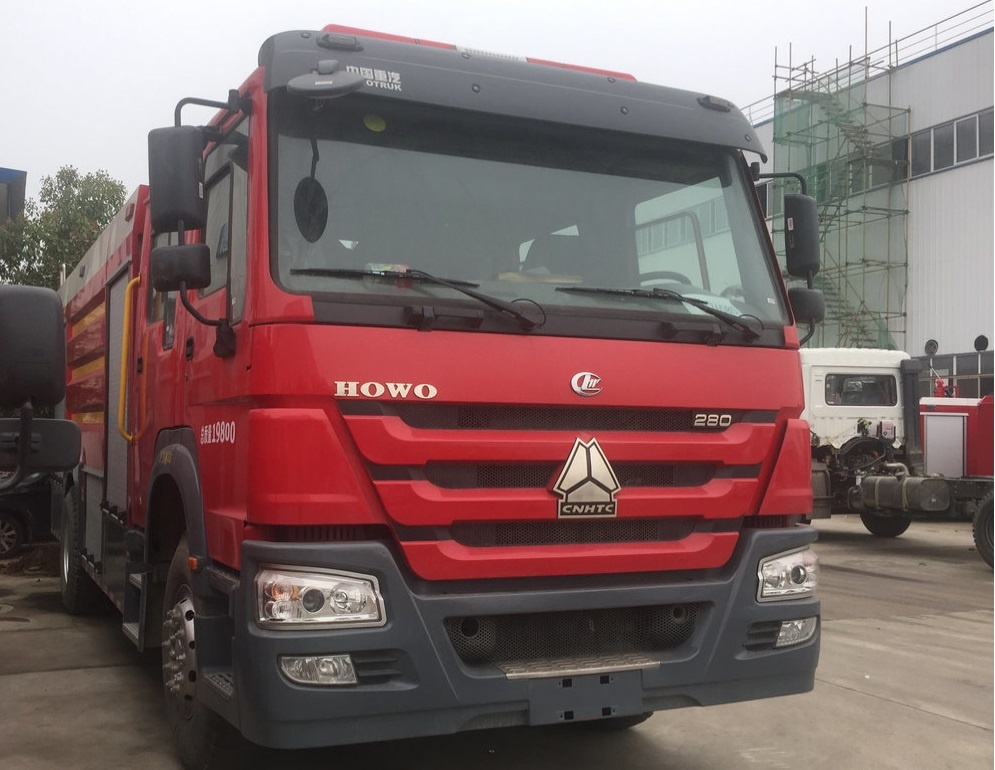fire engine: (59, 26, 849, 767)
